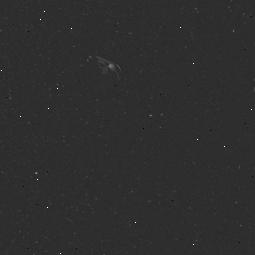proba_3_ocs: (62, 52, 145, 98)
